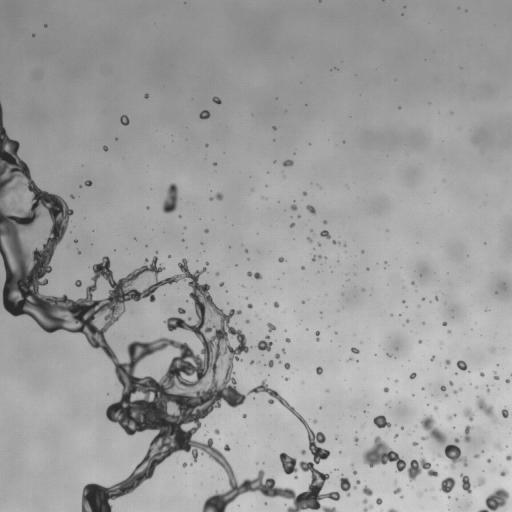droplet: (363, 436, 406, 471), (406, 456, 438, 482), (444, 437, 467, 469), (420, 414, 445, 443), (439, 476, 455, 498), (373, 415, 391, 429), (256, 340, 273, 351), (463, 407, 474, 421), (209, 192, 223, 201), (15, 148, 26, 159), (37, 180, 48, 191), (57, 189, 68, 200), (2, 190, 13, 201), (158, 190, 169, 201), (63, 197, 74, 208), (19, 204, 30, 215), (310, 213, 321, 224), (64, 221, 75, 232), (60, 232, 71, 243), (53, 242, 64, 253), (168, 264, 179, 275), (37, 285, 48, 296), (68, 290, 79, 301), (228, 316, 239, 327), (245, 336, 256, 347), (248, 346, 259, 357), (262, 349, 273, 360), (272, 362, 283, 373), (235, 382, 246, 393), (110, 391, 121, 402), (473, 409, 484, 420), (432, 418, 443, 429), (145, 427, 156, 438), (377, 427, 388, 438), (398, 434, 409, 445), (363, 439, 374, 450), (386, 440, 397, 451), (174, 448, 185, 459), (198, 451, 209, 462), (315, 460, 326, 471), (357, 461, 368, 472), (118, 469, 129, 480), (431, 475, 442, 486), (100, 477, 111, 488), (496, 478, 507, 489), (218, 482, 229, 493), (350, 485, 361, 496), (73, 486, 84, 497), (238, 491, 249, 502), (318, 496, 329, 507), (456, 360, 467, 370), (362, 485, 372, 496), (501, 405, 509, 418), (266, 322, 276, 332), (199, 110, 210, 119), (320, 230, 331, 239), (120, 115, 129, 125), (306, 205, 315, 214), (499, 467, 508, 476), (207, 102, 216, 111), (6, 130, 15, 139), (175, 189, 184, 198), (174, 200, 183, 209), (297, 204, 306, 213), (134, 259, 143, 268), (157, 271, 166, 280), (435, 354, 444, 363), (484, 373, 493, 382), (477, 388, 486, 397), (468, 401, 477, 410), (423, 407, 432, 416), (389, 424, 398, 433), (426, 436, 435, 445), (374, 462, 383, 471), (153, 464, 162, 473), (216, 466, 225, 475), (437, 471, 446, 480), (140, 478, 149, 487), (453, 478, 462, 487), (485, 486, 494, 495), (121, 492, 130, 501), (274, 494, 283, 503), (367, 494, 376, 503), (285, 497, 294, 506), (381, 500, 390, 509), (263, 359, 273, 367), (446, 413, 456, 421), (282, 159, 293, 166), (212, 96, 221, 104), (290, 200, 297, 210), (311, 254, 321, 261), (505, 460, 511, 471), (505, 495, 511, 506), (223, 505, 234, 511), (370, 505, 381, 511), (177, 307, 186, 314), (316, 366, 323, 375), (409, 372, 417, 379), (0, 274, 5, 285), (350, 347, 359, 353), (1, 120, 8, 127), (275, 160, 282, 167), (28, 168, 35, 175), (162, 183, 169, 190), (27, 190, 34, 197), (157, 200, 164, 207), (170, 209, 177, 216), (290, 209, 297, 216), (319, 223, 326, 230), (314, 247, 321, 254), (95, 256, 102, 263), (48, 259, 55, 266), (188, 266, 195, 273), (174, 267, 181, 274), (43, 272, 50, 279), (112, 274, 119, 281), (197, 277, 204, 284), (207, 288, 214, 295), (55, 291, 62, 298), (241, 306, 248, 313), (222, 307, 229, 314), (4, 311, 11, 318), (19, 313, 26, 320), (55, 328, 62, 335), (76, 331, 83, 338), (96, 346, 103, 353), (279, 354, 286, 361), (108, 363, 115, 370), (282, 368, 289, 375), (110, 372, 117, 379), (499, 373, 506, 380), (497, 377, 504, 384), (267, 382, 274, 389), (445, 385, 452, 392), (278, 390, 285, 397), (484, 398, 491, 405), (456, 409, 463, 416), (418, 413, 425, 420), (462, 418, 469, 425), (112, 421, 119, 428), (151, 428, 158, 435), (422, 429, 429, 436), (479, 453, 486, 460), (455, 460, 462, 467), (429, 463, 436, 470), (420, 468, 427, 475), (348, 477, 355, 484), (356, 483, 363, 490), (207, 489, 214, 496), (254, 489, 261, 496), (338, 489, 345, 496), (261, 494, 268, 501), (265, 495, 272, 502), (199, 496, 206, 503), (84, 180, 92, 186), (278, 256, 286, 262), (506, 470, 511, 479), (506, 486, 511, 495), (495, 506, 504, 511), (306, 237, 313, 243), (75, 280, 81, 287), (273, 301, 279, 308), (284, 362, 290, 369), (224, 444, 230, 451), (376, 498, 382, 505), (102, 145, 108, 151), (289, 222, 295, 228), (440, 385, 446, 391), (383, 387, 389, 393), (432, 405, 438, 411), (300, 449, 306, 455), (362, 498, 368, 504), (0, 261, 4, 270), (506, 454, 511, 461), (280, 506, 287, 511), (246, 303, 252, 308), (265, 334, 271, 339), (490, 347, 495, 353), (430, 355, 435, 361), (214, 428, 219, 434), (412, 441, 418, 446), (507, 409, 511, 416), (507, 448, 511, 455), (109, 507, 116, 511), (305, 507, 312, 511), (315, 507, 322, 511), (144, 93, 149, 98), (302, 191, 307, 196), (204, 228, 209, 233), (442, 321, 447, 326), (486, 458, 491, 463), (182, 462, 187, 467), (400, 7, 405, 12), (1, 107, 6, 112), (204, 117, 209, 122), (201, 118, 206, 123), (288, 155, 293, 160), (281, 156, 286, 161), (292, 160, 297, 165), (26, 162, 31, 167), (285, 165, 290, 170), (219, 189, 224, 194), (210, 192, 215, 197), (221, 195, 226, 200), (212, 197, 217, 202), (67, 204, 72, 209), (313, 205, 318, 210), (305, 209, 310, 214), (11, 211, 16, 216), (17, 212, 22, 217), (68, 214, 73, 219), (327, 229, 332, 234), (306, 231, 311, 236), (321, 235, 326, 240), (181, 241, 186, 246), (312, 242, 317, 247), (339, 245, 344, 250), (243, 252, 248, 257), (108, 257, 113, 262), (319, 257, 324, 262), (145, 261, 150, 266), (154, 262, 159, 267), (108, 265, 113, 270), (197, 266, 202, 271), (250, 269, 255, 274), (258, 270, 263, 275), (90, 271, 95, 276), (38, 277, 43, 282), (216, 278, 221, 283), (255, 278, 260, 283), (88, 280, 93, 285), (66, 294, 71, 299), (211, 297, 216, 302), (246, 298, 251, 303), (277, 300, 282, 305), (268, 301, 273, 306), (233, 306, 238, 311), (393, 311, 398, 316), (271, 320, 276, 325), (228, 321, 233, 326), (233, 325, 238, 330), (330, 326, 335, 331), (38, 327, 43, 332), (41, 329, 46, 334), (240, 329, 245, 334), (268, 331, 273, 336), (284, 332, 289, 337), (260, 335, 265, 340), (244, 341, 249, 346), (85, 342, 90, 347), (269, 344, 274, 349), (355, 344, 360, 349), (262, 348, 267, 353), (277, 349, 282, 354), (240, 350, 245, 355), (351, 352, 356, 357), (272, 358, 277, 363), (440, 361, 445, 366), (279, 362, 284, 367), (493, 365, 498, 370), (455, 367, 460, 372), (389, 376, 394, 381), (256, 380, 261, 385), (444, 382, 449, 387), (451, 384, 456, 389), (456, 390, 461, 395), (288, 401, 293, 406), (428, 404, 433, 409), (102, 405, 107, 410), (364, 405, 369, 410), (294, 406, 299, 411), (101, 411, 106, 416), (374, 411, 379, 416), (497, 412, 502, 417), (302, 415, 307, 420), (385, 417, 390, 422), (368, 418, 373, 423), (106, 419, 111, 424), (466, 420, 471, 425), (372, 424, 377, 429), (119, 427, 124, 432), (396, 428, 401, 433), (468, 428, 473, 433), (134, 430, 139, 435), (322, 430, 327, 435), (460, 431, 465, 436), (351, 432, 356, 437), (355, 432, 360, 437), (127, 434, 132, 439), (458, 436, 463, 441), (415, 437, 420, 442), (450, 440, 455, 445), (315, 442, 320, 447), (455, 442, 460, 447), (499, 442, 504, 447), (392, 447, 397, 452), (196, 448, 201, 453), (475, 449, 480, 454), (440, 450, 445, 455), (141, 451, 146, 456), (459, 451, 464, 456), (397, 453, 402, 458), (501, 453, 506, 458), (196, 454, 201, 459), (326, 455, 331, 460), (164, 456, 169, 461), (415, 456, 420, 461), (136, 457, 141, 462), (425, 457, 430, 462), (446, 457, 451, 462), (319, 458, 324, 463), (391, 460, 396, 465), (214, 462, 219, 467), (405, 462, 410, 467), (312, 463, 317, 468), (364, 463, 369, 468), (497, 466, 502, 471), (402, 467, 407, 472), (480, 472, 485, 477), (342, 473, 347, 478), (430, 475, 435, 480), (468, 478, 473, 483), (395, 482, 400, 487), (436, 483, 441, 488), (367, 484, 372, 489), (391, 485, 396, 490), (469, 485, 474, 490), (348, 487, 353, 492), (318, 489, 323, 494), (462, 489, 467, 494), (448, 490, 453, 495), (442, 491, 447, 496), (395, 492, 400, 497), (362, 493, 367, 498), (107, 498, 112, 503), (363, 502, 368, 507), (360, 503, 365, 508), (392, 504, 397, 509), (482, 504, 487, 509), (281, 348, 285, 354), (284, 377, 290, 381), (449, 380, 453, 386), (473, 454, 479, 458), (0, 256, 3, 263), (0, 295, 3, 302), (70, 194, 74, 199), (317, 242, 321, 247), (77, 249, 81, 254), (244, 248, 248, 253), (219, 282, 224, 286), (405, 318, 409, 323), (285, 338, 290, 342), (249, 360, 254, 364), (480, 372, 484, 377), (505, 379, 510, 383), (242, 413, 246, 418), (312, 419, 317, 423), (335, 434, 338, 440), (272, 126, 276, 130), (323, 220, 327, 224), (205, 261, 209, 265), (215, 272, 219, 276), (245, 319, 249, 323), (418, 339, 422, 343), (431, 457, 435, 461), (356, 480, 360, 484), (430, 487, 434, 491), (212, 162, 217, 165), (484, 308, 489, 311), (446, 330, 451, 333), (508, 376, 511, 381), (508, 459, 511, 464), (77, 508, 82, 511), (311, 508, 316, 511), (358, 508, 363, 511), (366, 508, 371, 511), (32, 33, 35, 37), (205, 143, 208, 147), (178, 214, 181, 218), (297, 214, 300, 218), (74, 239, 77, 243), (361, 249, 364, 253), (168, 254, 171, 258), (384, 261, 388, 264), (301, 266, 305, 269), (361, 288, 365, 291), (494, 291, 498, 294), (421, 297, 425, 300), (402, 299, 405, 303), (301, 300, 305, 303), (389, 313, 393, 316), (187, 317, 191, 320), (256, 360, 260, 363), (394, 379, 398, 382), (475, 385, 478, 389), (421, 387, 425, 390), (325, 389, 329, 392), (444, 393, 447, 397), (318, 406, 322, 409), (400, 426, 403, 430), (481, 449, 484, 453), (338, 450, 341, 454), (437, 453, 441, 456), (256, 461, 259, 465), (435, 463, 439, 466), (455, 497, 458, 501), (264, 501, 267, 505), (0, 254, 2, 259), (44, 24, 47, 27), (398, 106, 401, 109), (115, 137, 118, 140), (342, 140, 345, 143), (273, 160, 276, 163), (146, 206, 149, 209), (183, 226, 186, 229), (310, 229, 313, 232), (343, 243, 346, 246), (247, 257, 250, 260), (324, 256, 327, 259), (366, 267, 369, 270), (185, 299, 188, 302), (226, 301, 229, 304), (417, 304, 420, 307), (319, 311, 322, 314), (254, 313, 257, 316), (398, 313, 401, 316), (422, 321, 425, 324), (334, 331, 337, 334), (496, 363, 499, 366), (454, 372, 457, 375), (426, 403, 429, 406), (353, 486, 356, 489), (424, 488, 427, 491), (400, 495, 403, 498), (397, 12, 400, 15), (403, 12, 406, 15), (400, 15, 403, 18), (43, 20, 46, 23), (40, 23, 43, 26), (45, 26, 48, 29), (31, 30, 34, 33), (28, 33, 31, 36), (34, 34, 37, 37), (31, 36, 34, 39), (335, 65, 338, 68), (332, 68, 335, 71), (143, 90, 146, 93), (141, 93, 144, 96), (148, 93, 151, 96), (147, 96, 150, 99), (143, 97, 146, 100), (219, 97, 222, 100), (304, 100, 307, 103), (214, 102, 217, 105), (217, 103, 220, 106), (204, 107, 207, 110), (198, 109, 201, 112), (208, 110, 211, 113), (122, 111, 125, 114), (196, 115, 199, 118), (208, 115, 211, 118), (127, 116, 130, 119), (117, 119, 120, 122), (128, 119, 131, 122), (271, 122, 274, 125), (119, 123, 122, 126), (275, 125, 278, 128), (270, 127, 273, 130), (115, 134, 118, 137), (111, 137, 114, 140), (117, 137, 120, 140), (204, 140, 207, 143), (339, 140, 342, 143), (344, 140, 347, 143), (104, 142, 107, 145), (100, 143, 103, 146), (201, 143, 204, 146), (207, 144, 210, 147), (107, 146, 110, 149), (101, 149, 104, 152), (105, 150, 108, 153), (295, 151, 298, 154), (271, 157, 274, 160), (213, 159, 216, 162), (216, 162, 219, 165), (75, 184, 78, 187), (88, 185, 91, 188), (303, 188, 306, 191), (299, 191, 302, 194), (306, 191, 309, 194), (72, 193, 75, 196), (302, 195, 305, 198), (292, 196, 295, 199), (206, 198, 209, 201), (279, 200, 282, 203), (290, 201, 293, 204), (293, 201, 296, 204), (144, 203, 147, 206), (147, 203, 150, 206), (143, 207, 146, 210), (148, 207, 151, 210), (72, 209, 75, 212), (299, 216, 302, 219), (324, 217, 327, 220), (288, 221, 291, 224), (292, 225, 295, 228), (202, 226, 205, 229), (207, 227, 210, 230), (181, 228, 184, 231), (91, 231, 94, 234), (204, 232, 207, 235), (180, 235, 183, 238), (135, 236, 138, 239), (183, 236, 186, 239), (304, 238, 307, 241), (334, 238, 337, 241), (132, 239, 135, 242), (179, 240, 182, 243), (76, 241, 79, 244), (144, 241, 147, 244), (345, 241, 348, 244), (340, 242, 343, 245), (147, 243, 150, 246), (141, 244, 144, 247), (230, 244, 233, 247), (112, 245, 115, 248), (78, 247, 81, 250), (115, 248, 118, 251), (247, 248, 250, 251), (357, 249, 360, 252), (363, 249, 366, 252), (74, 250, 77, 253), (167, 251, 170, 254), (78, 253, 81, 256), (104, 253, 107, 256), (325, 253, 328, 256), (170, 254, 173, 257), (277, 254, 280, 257), (181, 255, 184, 258), (310, 255, 313, 258), (283, 256, 286, 259), (314, 256, 317, 259), (167, 257, 170, 260), (185, 257, 188, 260), (383, 257, 386, 260), (308, 258, 311, 261), (325, 258, 328, 261), (207, 259, 210, 262), (275, 259, 278, 262), (234, 260, 237, 263), (282, 260, 285, 263), (311, 260, 314, 263), (386, 260, 389, 263), (237, 263, 240, 266), (302, 263, 305, 266), (383, 263, 386, 266), (204, 264, 207, 267), (366, 264, 369, 267), (234, 266, 237, 269), (297, 266, 300, 269), (380, 266, 383, 269), (247, 268, 250, 271), (301, 269, 304, 272), (364, 269, 367, 272), (218, 271, 221, 274), (76, 276, 79, 279), (344, 276, 347, 279), (409, 278, 412, 281), (47, 279, 50, 282), (72, 279, 75, 282), (414, 281, 417, 284), (223, 282, 226, 285), (411, 284, 414, 287), (220, 285, 223, 288), (227, 288, 230, 291), (496, 288, 499, 291), (224, 292, 227, 295), (244, 293, 247, 296), (421, 294, 424, 297), (437, 296, 440, 299), (399, 297, 402, 300), (424, 297, 427, 300), (303, 298, 306, 301), (432, 298, 435, 301), (298, 300, 301, 303), (403, 302, 406, 305), (251, 303, 254, 306), (301, 303, 304, 306), (217, 305, 220, 308), (407, 305, 410, 308), (229, 306, 232, 309), (247, 307, 250, 310), (274, 307, 277, 310), (320, 308, 323, 311), (398, 310, 401, 313), (486, 310, 489, 313), (483, 311, 486, 314), (318, 313, 321, 316), (246, 316, 249, 319), (408, 317, 411, 320), (442, 318, 445, 321), (408, 320, 411, 323), (403, 321, 406, 324), (439, 321, 442, 324), (247, 322, 250, 325), (419, 323, 422, 326), (305, 324, 308, 327), (442, 325, 445, 328), (286, 328, 289, 331), (313, 328, 316, 331), (334, 328, 337, 331), (271, 329, 274, 332), (450, 329, 453, 332), (337, 331, 340, 334), (447, 332, 450, 335), (332, 333, 335, 336), (317, 334, 320, 337), (418, 336, 421, 339), (282, 338, 285, 341), (415, 339, 418, 342), (421, 339, 424, 342), (284, 341, 287, 344), (419, 342, 422, 345), (351, 344, 354, 347), (255, 346, 258, 349), (284, 348, 287, 351), (373, 350, 376, 353), (376, 352, 379, 355), (388, 352, 391, 355), (373, 355, 376, 358), (385, 355, 388, 358), (390, 355, 393, 358), (428, 355, 431, 358), (345, 356, 348, 359), (446, 356, 449, 359), (433, 357, 436, 360), (459, 357, 462, 360), (358, 359, 361, 362), (427, 359, 430, 362), (495, 360, 498, 363), (251, 362, 254, 365), (265, 364, 268, 367), (289, 364, 292, 367), (315, 364, 318, 367), (498, 364, 501, 367), (321, 366, 324, 369), (464, 368, 467, 371), (313, 369, 316, 372), (412, 369, 415, 372), (480, 369, 483, 372), (408, 371, 411, 374), (415, 371, 418, 374), (483, 371, 486, 374), (320, 372, 323, 375), (476, 372, 479, 375), (491, 372, 494, 375), (495, 372, 498, 375), (230, 373, 233, 376), (415, 374, 418, 377), (406, 375, 409, 378), (478, 375, 481, 378), (396, 376, 399, 379), (234, 377, 237, 380), (281, 377, 284, 380), (411, 378, 414, 381), (493, 378, 496, 381), (286, 379, 289, 382), (451, 379, 454, 382), (264, 380, 267, 383), (395, 381, 398, 384), (505, 382, 508, 385), (471, 383, 474, 386), (385, 384, 388, 387), (422, 384, 425, 387), (418, 385, 421, 388), (487, 385, 490, 388), (484, 386, 487, 389), (437, 387, 440, 390), (380, 388, 383, 391), (106, 389, 109, 392), (387, 389, 390, 392), (421, 389, 424, 392), (411, 390, 414, 393), (443, 390, 446, 393), (324, 391, 327, 394), (103, 392, 106, 395), (414, 392, 417, 395), (408, 393, 411, 396), (445, 396, 448, 399), (425, 400, 428, 403), (387, 402, 390, 405), (435, 403, 438, 406), (316, 404, 319, 407), (321, 406, 324, 409), (360, 408, 363, 411), (436, 408, 439, 411), (360, 411, 363, 414), (455, 411, 458, 414), (450, 412, 453, 415), (315, 417, 318, 420), (390, 423, 393, 426), (403, 426, 406, 429), (462, 426, 465, 429), (391, 433, 394, 436), (456, 435, 459, 438), (337, 436, 340, 439), (395, 436, 398, 439), (352, 440, 355, 443), (356, 440, 359, 443), (409, 442, 412, 445), (415, 444, 418, 447), (483, 448, 486, 451), (341, 450, 344, 453), (474, 457, 477, 460), (490, 457, 493, 460), (348, 460, 351, 463), (466, 460, 469, 463), (485, 461, 488, 464), (186, 462, 189, 465), (179, 463, 182, 466), (334, 465, 337, 468), (353, 467, 356, 470), (394, 467, 397, 470), (462, 472, 465, 475), (500, 475, 503, 478), (426, 486, 429, 489), (390, 491, 393, 494), (380, 496, 383, 499), (401, 497, 404, 500), (456, 499, 459, 502), (380, 502, 383, 505), (241, 285, 245, 287), (318, 0, 321, 2), (450, 112, 453, 114), (266, 171, 269, 173), (79, 185, 82, 187), (251, 188, 253, 191), (385, 229, 388, 231), (134, 237, 136, 240), (181, 239, 184, 241), (200, 242, 203, 244), (145, 244, 147, 247), (228, 246, 231, 248), (313, 247, 315, 250), (341, 292, 343, 295), (245, 296, 247, 299), (264, 302, 266, 305), (327, 325, 330, 327), (284, 329, 286, 332), (374, 353, 377, 355), (356, 359, 358, 362), (468, 370, 470, 373), (387, 377, 389, 380), (106, 393, 109, 395), (412, 393, 414, 396), (415, 424, 417, 427), (453, 426, 455, 429), (420, 446, 422, 449), (262, 461, 264, 464), (380, 509, 383, 511), (445, 509, 448, 511), (449, 509, 452, 511), (465, 9, 467, 11), (401, 13, 403, 15), (330, 69, 332, 71), (273, 139, 275, 141), (308, 143, 310, 145), (293, 152, 295, 154), (265, 185, 267, 187), (277, 201, 279, 203), (290, 216, 292, 218), (484, 242, 486, 244), (185, 246, 187, 248), (337, 260, 339, 262), (235, 264, 237, 266), (317, 271, 319, 273), (225, 290, 227, 292), (429, 301, 431, 303), (402, 324, 404, 326), (306, 328, 308, 330), (360, 341, 362, 343), (469, 383, 471, 385), (431, 394, 433, 396), (253, 397, 255, 399), (367, 403, 369, 405), (394, 424, 396, 426), (355, 431, 357, 433), (204, 434, 206, 436), (447, 508, 449, 510), (183, 0, 186, 1), (315, 0, 318, 1), (321, 0, 324, 1), (305, 104, 307, 105), (70, 231, 71, 233), (114, 249, 115, 251), (196, 260, 198, 261), (384, 267, 385, 269), (406, 306, 407, 308), (337, 310, 339, 311), (320, 317, 322, 318), (330, 340, 332, 341), (394, 357, 396, 358), (421, 452, 422, 454), (238, 504, 239, 506), (92, 230, 93, 231), (420, 275, 421, 276), (277, 278, 278, 279), (235, 323, 236, 324), (204, 424, 205, 425)
ligament: (477, 488, 509, 511), (475, 395, 498, 424), (279, 452, 298, 479), (162, 183, 179, 213), (339, 473, 350, 497), (493, 442, 508, 451), (246, 271, 262, 279), (393, 479, 401, 494), (350, 462, 357, 475), (274, 353, 282, 363), (452, 387, 462, 395), (363, 504, 373, 511), (411, 281, 417, 292), (444, 359, 450, 369), (314, 330, 319, 341), (346, 356, 353, 362), (332, 240, 340, 245), (486, 384, 490, 393), (354, 436, 358, 445), (387, 508, 398, 511), (384, 400, 390, 405), (393, 433, 398, 439), (386, 353, 392, 357), (261, 196, 267, 199), (435, 295, 438, 301), (334, 67, 339, 70), (333, 468, 339, 470), (509, 372, 511, 377), (363, 410, 368, 412), (350, 416, 355, 418), (346, 279, 350, 281), (301, 381, 304, 383), (381, 0, 385, 1), (262, 353, 263, 355)
